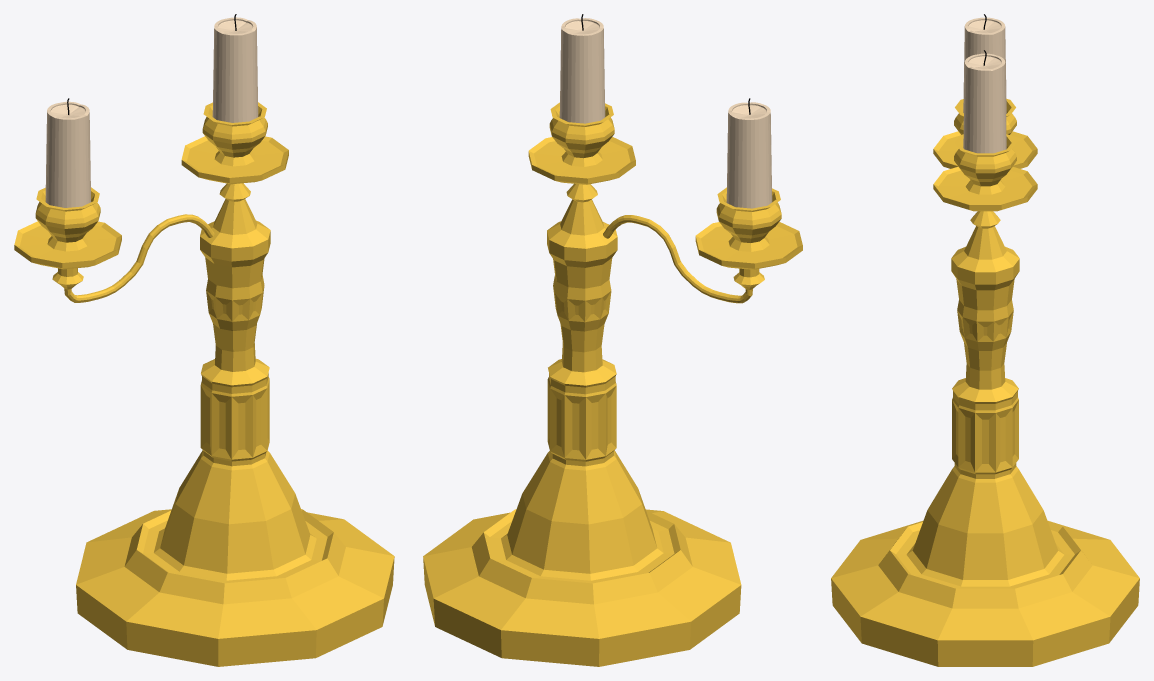
File: Candlestick-Main-Part.fbx
The picture shows the model from 3 angles, left to right: view 1: azimuth 30°, elevation 25°; view 2: azimuth 150°, elevation 25°; view 3: azimuth 270°, elevation 25°; orthographic projection. The views are drawn at different scales.
Parts seen in each view (by area): view 1: MAIN, ld, sd; view 2: MAIN, ld, sd; view 3: MAIN, sd, ld.
Boxes of the visible parts, left/top/right/bottom form: MAIN: left=14, top=102, right=394, bottom=666; ld: left=45, top=101, right=91, bottom=207; sd: left=212, top=17, right=258, bottom=122; MAIN: left=423, top=102, right=802, bottom=666; ld: left=726, top=102, right=772, bottom=208; sd: left=559, top=18, right=605, bottom=123; MAIN: left=831, top=98, right=1139, bottom=666; sd: left=963, top=53, right=1006, bottom=153; ld: left=963, top=17, right=1006, bottom=113.
Bounding box in the file's own units: 249 × 402 × 203.
